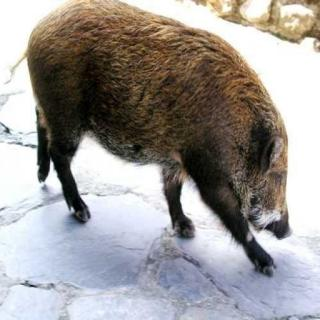Pig: (15, 0, 308, 311)
